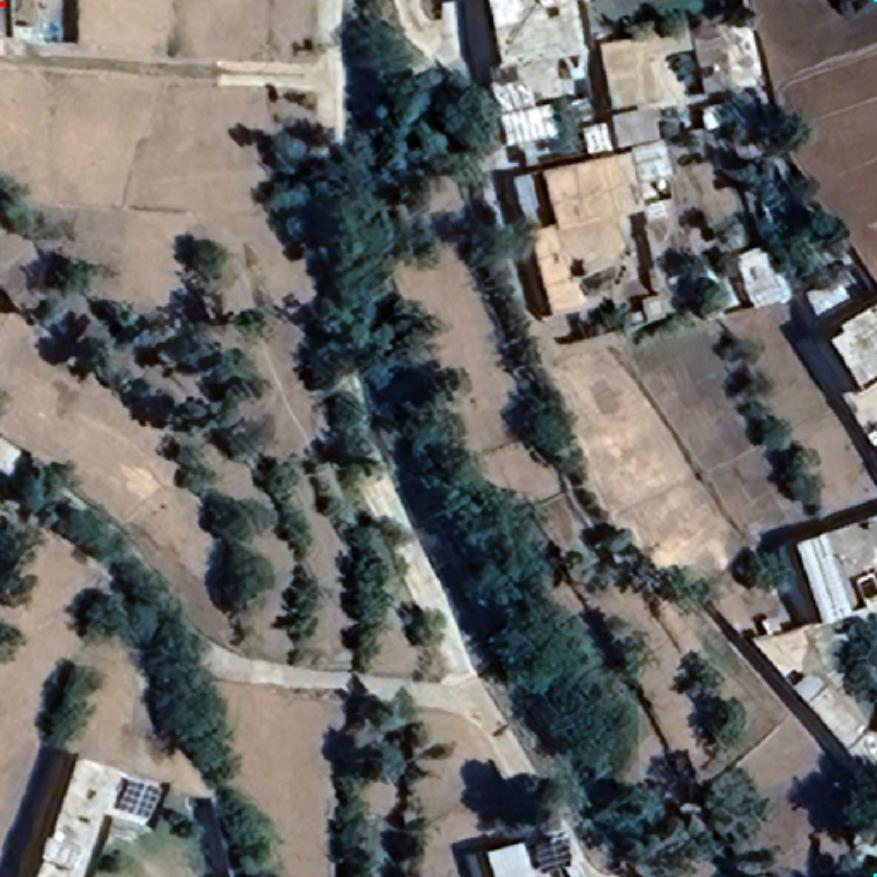Solarpanel: (116, 778, 162, 820), (533, 836, 573, 874)
